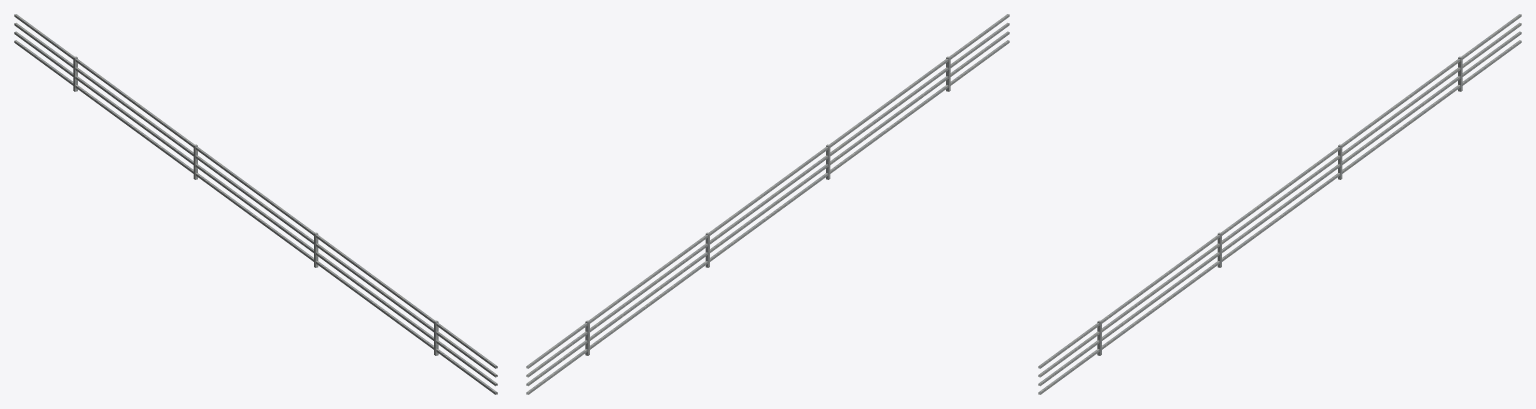
The model's file is GSDRailing3-Light-20m.FBX.
3 renders of one model, left to right at view 1: azimuth 30°, elevation 25°; view 2: azimuth 150°, elevation 25°; view 3: azimuth 330°, elevation 25°, orthographic.
Visible parts, largest first — view 1: GSDRailing3; view 2: GSDRailing3; view 3: GSDRailing3.
Part boxes in pixels (x1,y1,x2,y2): GSDRailing3: (14, 14, 497, 394); GSDRailing3: (526, 14, 1009, 394); GSDRailing3: (1038, 14, 1521, 394).
Bounding box in the file's own units: 0.07 × 0.77 × 20.
